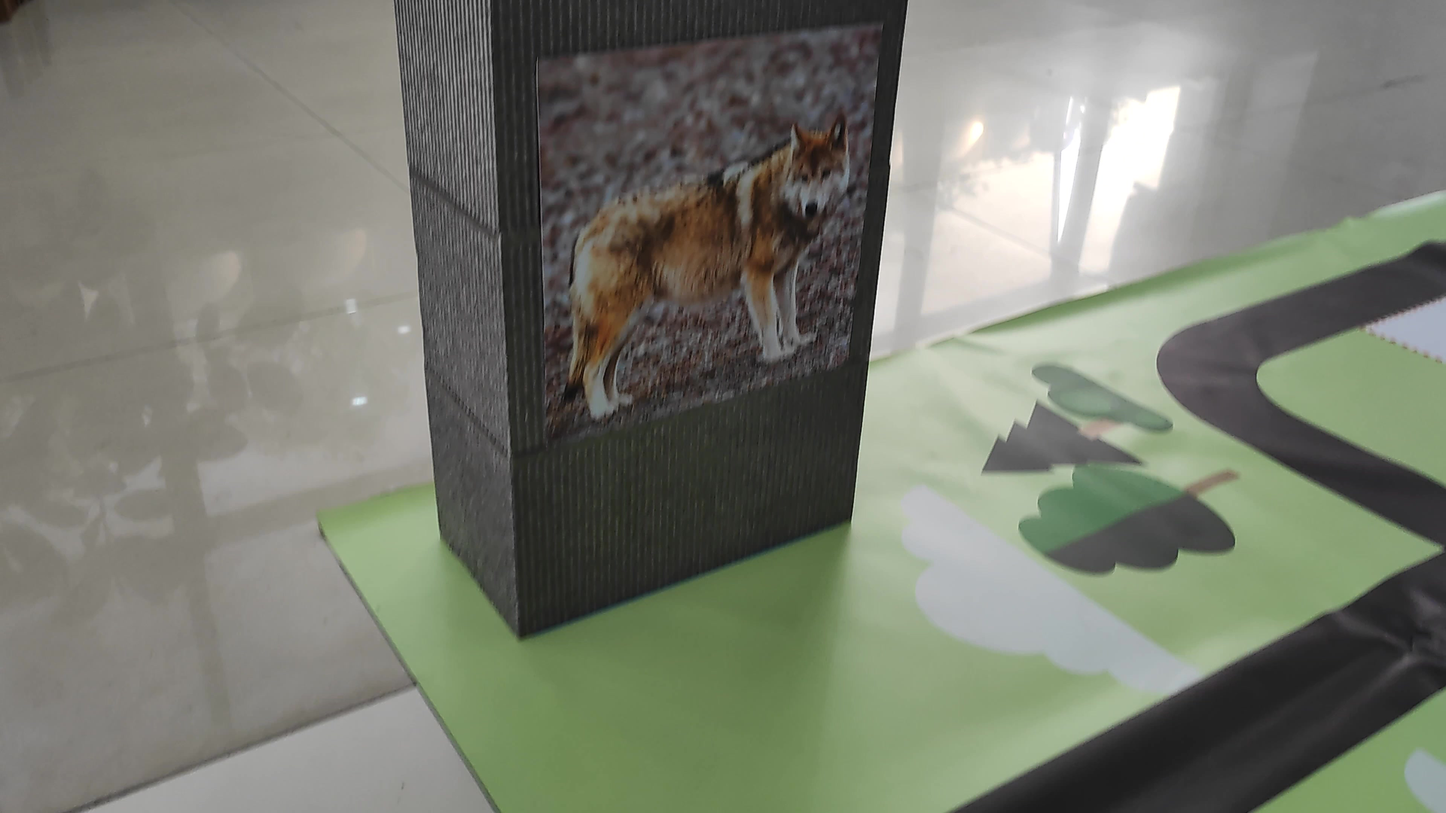wolf: (545, 52, 863, 387)
